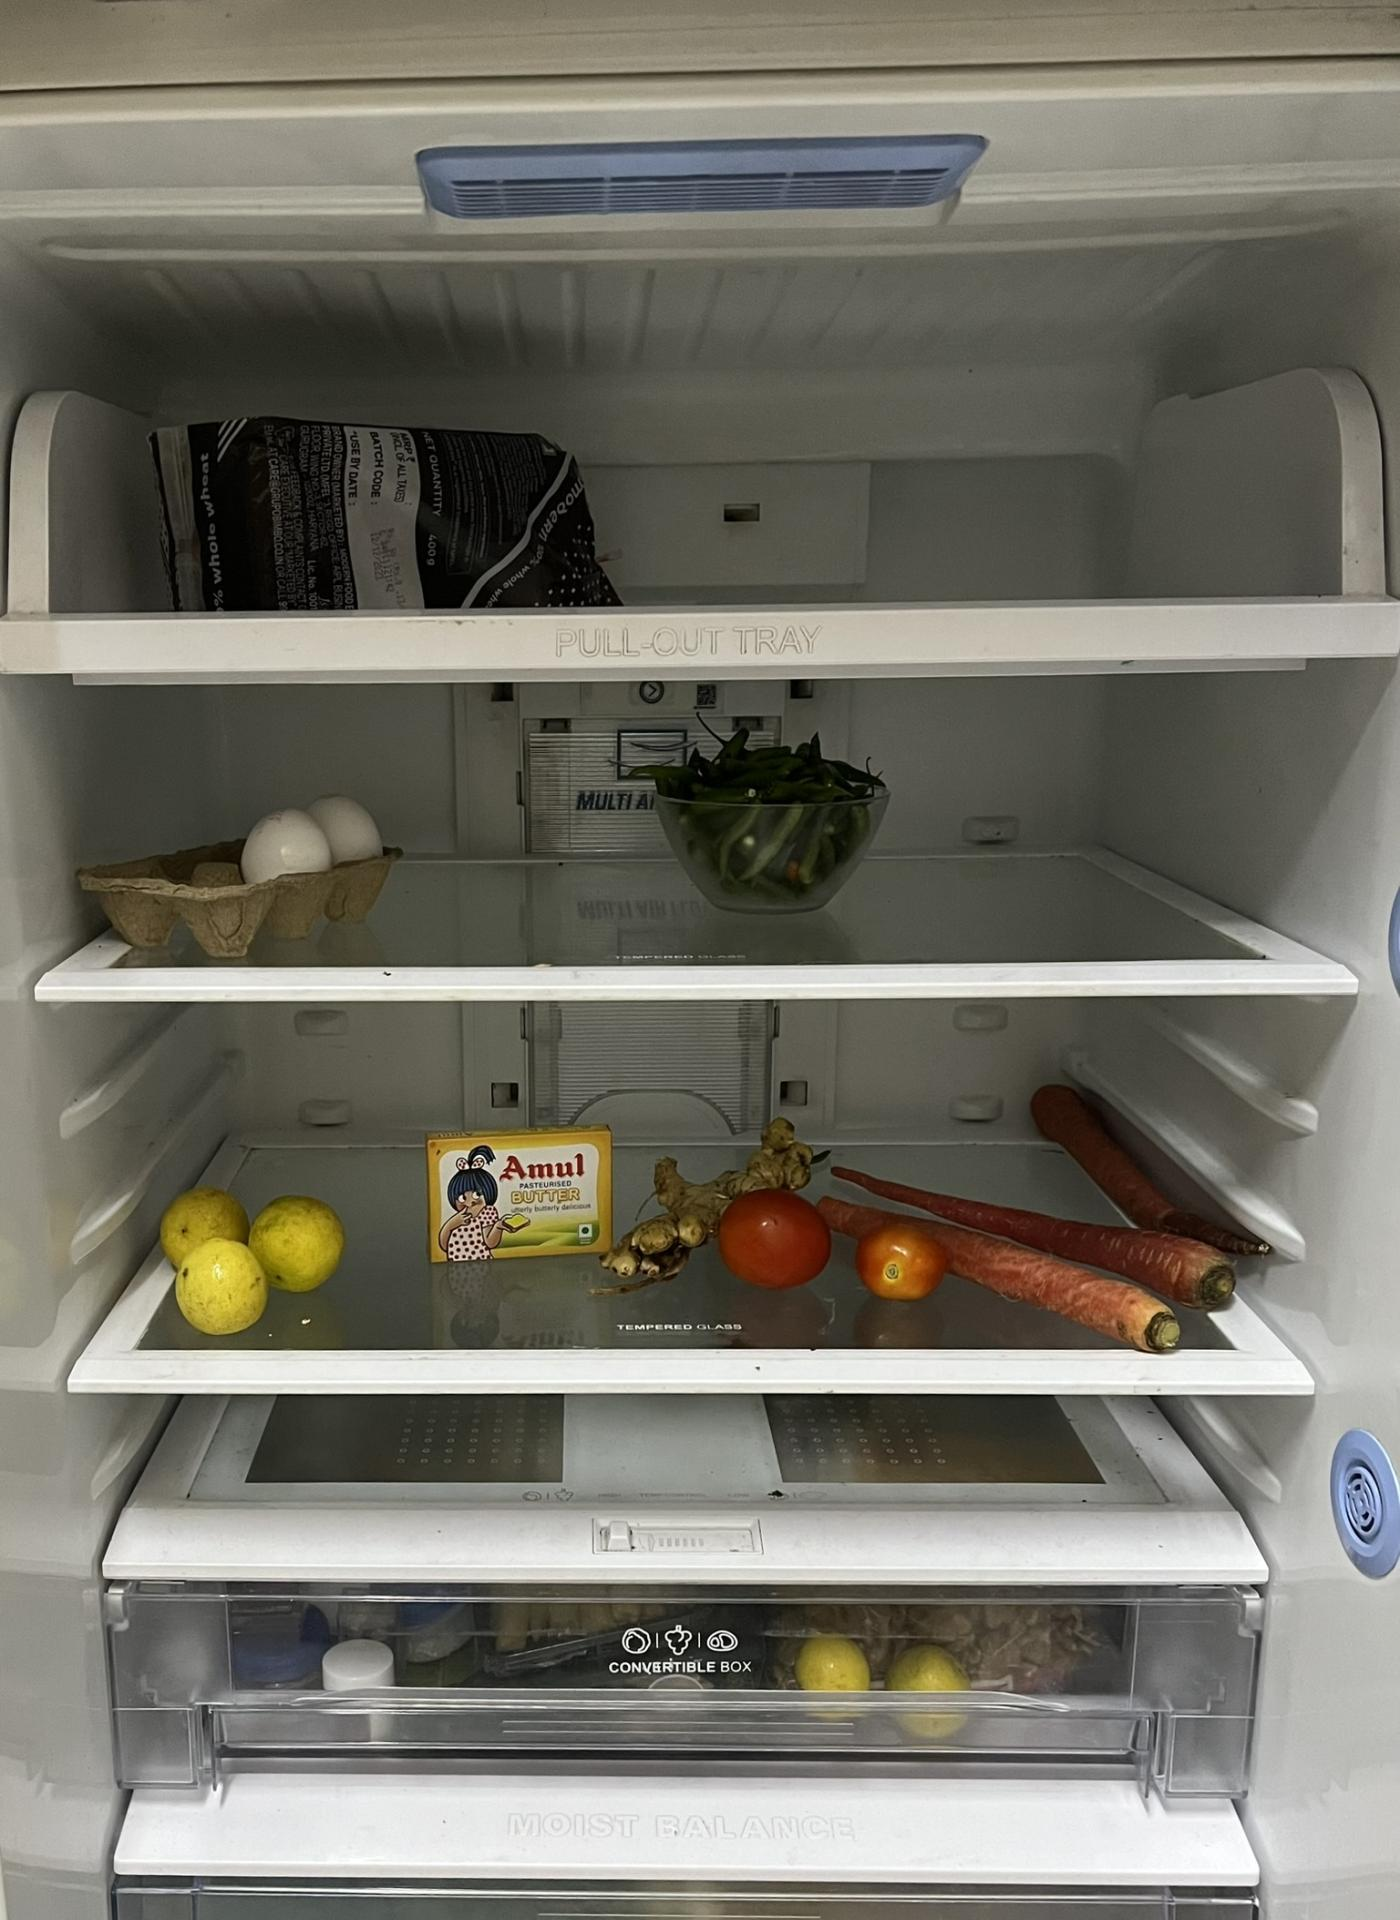bread: (151, 416, 592, 608)
butter: (423, 1134, 617, 1267)
carrots: (827, 1154, 1232, 1357), (1038, 1072, 1260, 1258)
chillies: (658, 726, 887, 906)
egg: (245, 792, 389, 891)
ginger: (611, 1114, 802, 1282)
lemon: (158, 1181, 338, 1328)
tomato: (720, 1184, 833, 1286), (859, 1219, 942, 1297)
